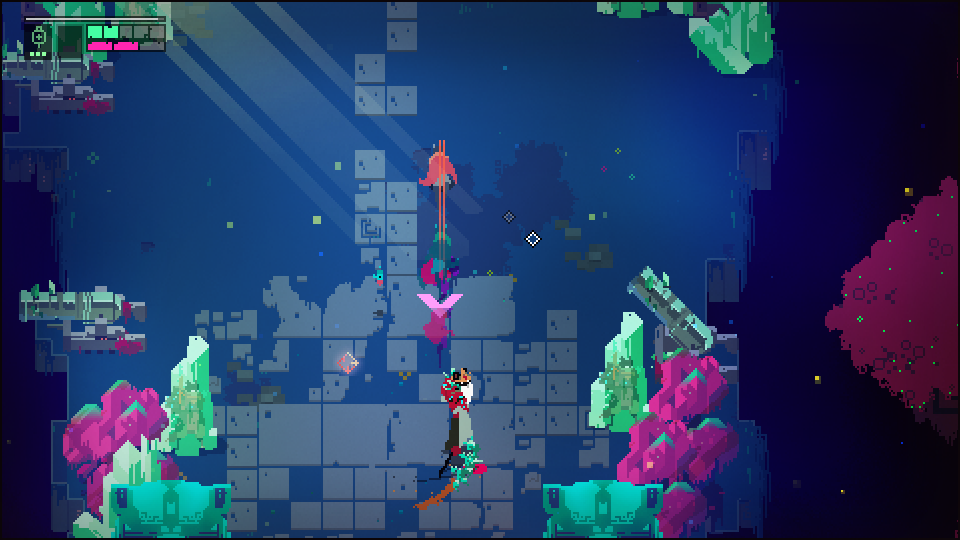hanged_man: (415, 363, 485, 503)
player: (418, 144, 458, 199)
